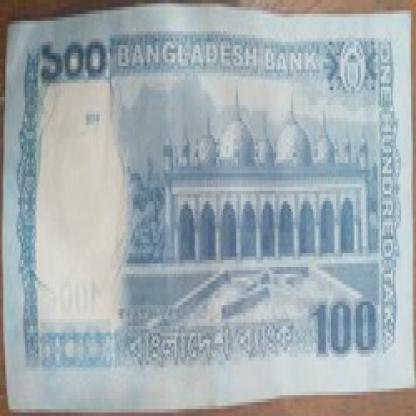one hundred taka: (312, 284, 380, 361), (35, 31, 115, 90)
